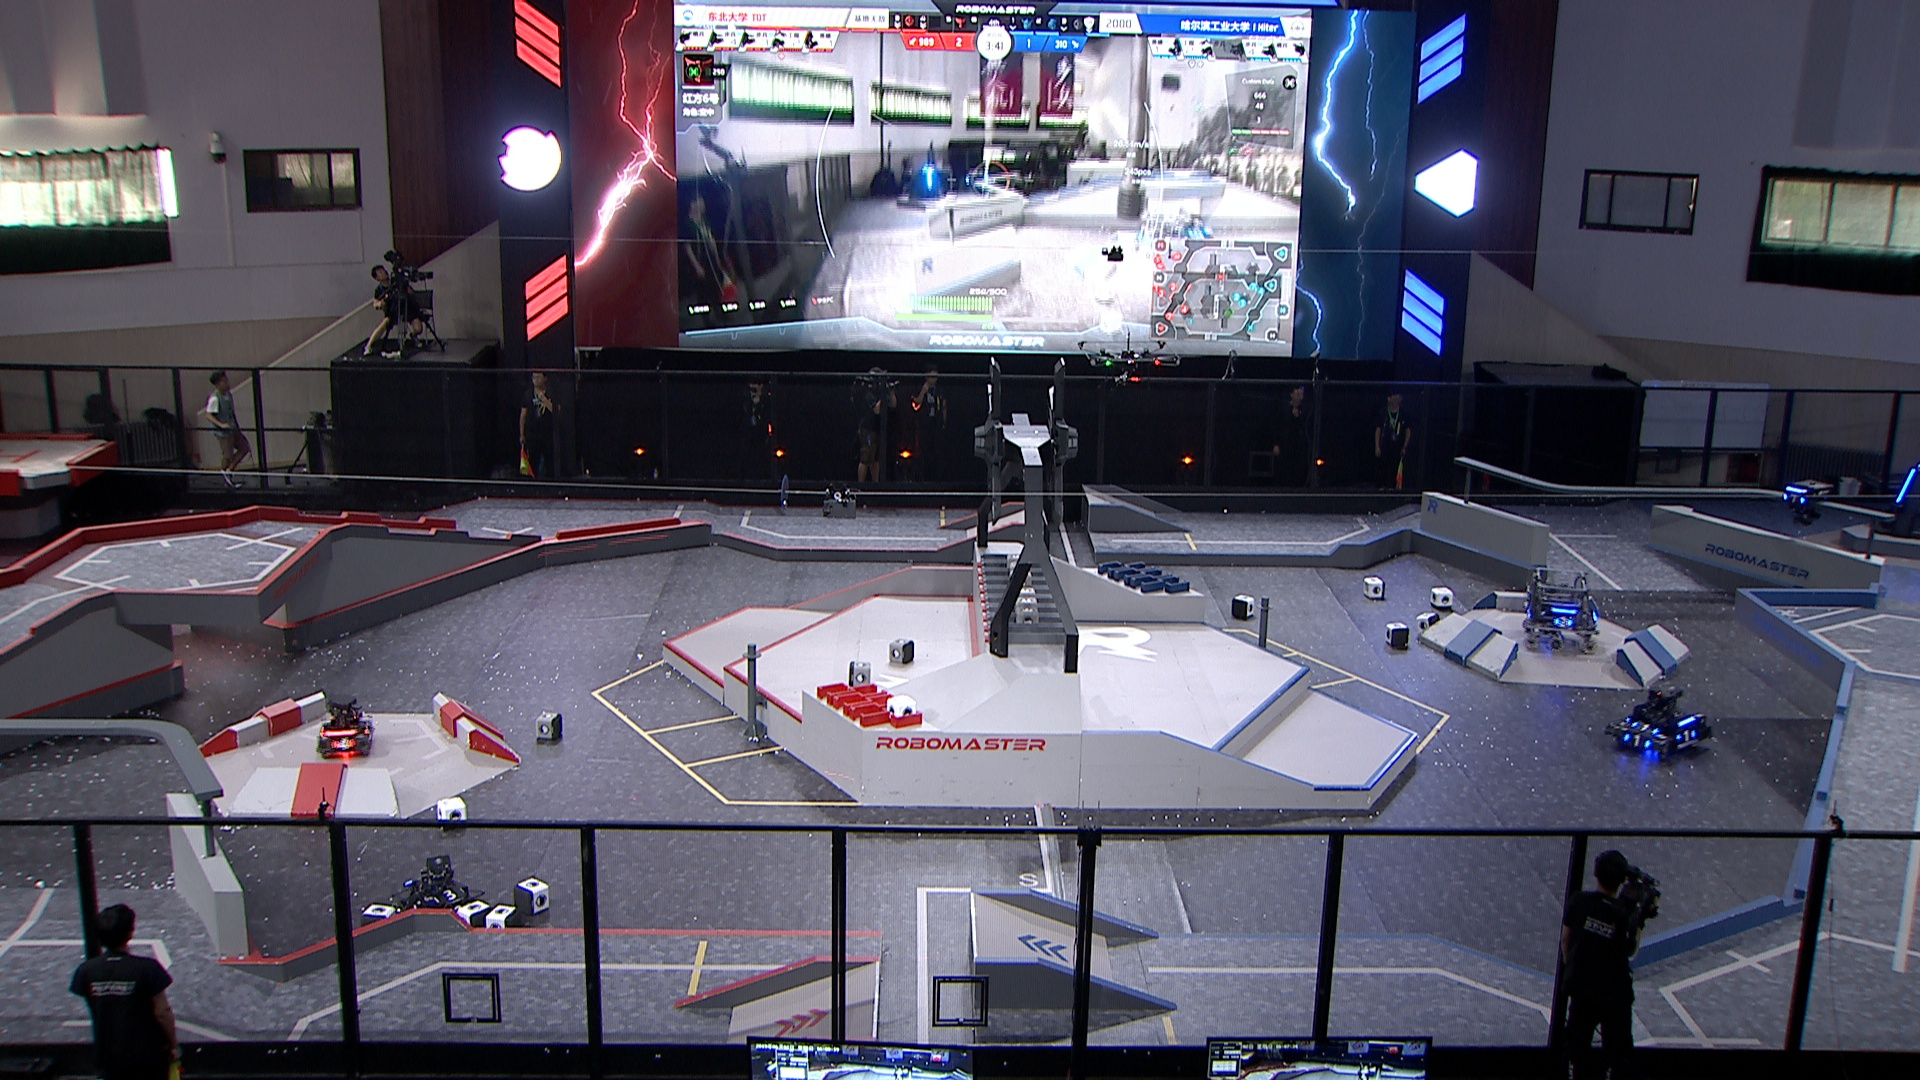armor: (1894, 465, 1917, 502), (1622, 731, 1651, 749), (436, 887, 465, 903), (1780, 489, 1807, 506), (1631, 717, 1658, 735), (330, 737, 353, 750), (1552, 613, 1571, 629), (1675, 731, 1695, 745), (361, 723, 372, 740)
base: (1869, 448, 1920, 541)
car: (1607, 680, 1716, 761), (392, 851, 485, 935), (1519, 562, 1604, 655), (315, 694, 382, 760)
ignore: (1174, 210, 1216, 245), (906, 164, 945, 200)
watcher: (1774, 465, 1832, 527)
